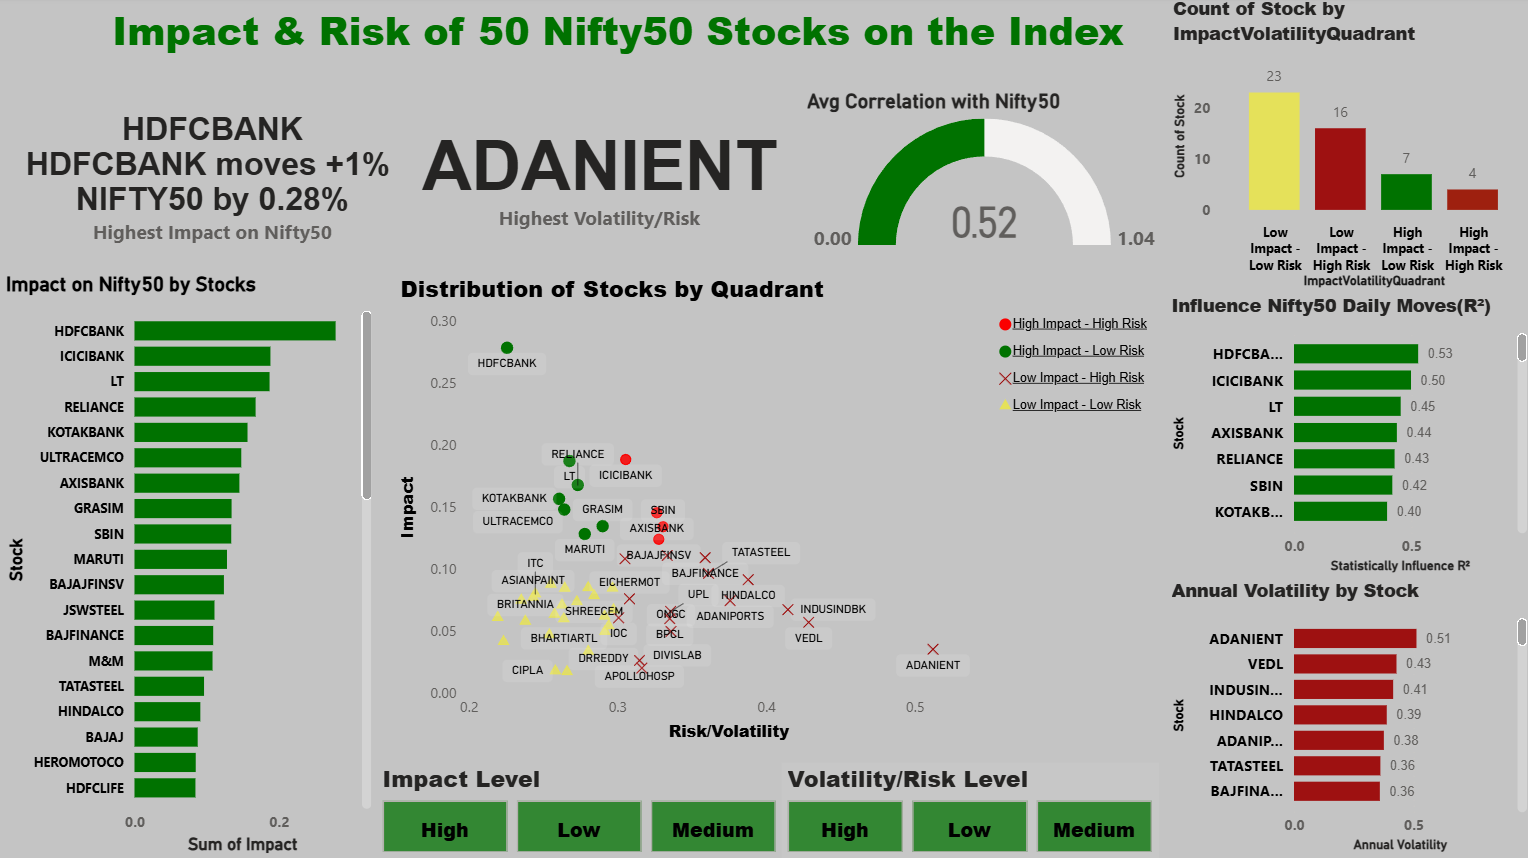

What the dashboard file says about the page in this screenshot:
{"tool":"powerbi","page":{"name":"Page 1","canvas":[1280,720],"ordinal":0},"visuals":[{"type":"card","fields":{"Values":["StockData.TopImpactStock_KPI"]},"box":[0,77.1,354.3,140],"z":0},{"type":"card","fields":{"Values":["Min(StockData.Stock)"]},"box":[330,77.1,341.4,140],"z":1000},{"type":"gauge","fields":{"Y":["Avg(StockData.Correlation)"]},"box":[668.6,77.1,305.7,140],"z":2000},{"type":"clusteredColumnChart","fields":{"Category":["StockData.ImpactVolatilityQuadrant"],"Y":["CountNonNull(StockData.Stock)"]},"box":[975,0,305,248.3],"z":3000},{"type":"clusteredBarChart","title":"Impact on Nifty50 by Stocks","fields":{"Category":["StockData.Stock"],"Y":["Sum(StockData.Impact)"]},"box":[0,230,315,490],"z":4000},{"type":"scatterChart","title":"Distribution of Stocks by Quadrant","fields":{"X":["Sum(StockData.Ann_Volatility)"],"Y":["Sum(StockData.Impact)"],"Category":["StockData.Stock"],"Series":["StockData.ImpactVolatilityQuadrant"]},"box":[330,230,643.3,396.7],"z":5000},{"type":"clusteredBarChart","title":"Influence Nifty50 Daily Moves(R²)","fields":{"Category":["StockData.Stock"],"Y":["Sum(StockData.r_squared)"]},"box":[973.3,248.3,306.7,238.3],"z":6000},{"type":"clusteredBarChart","fields":{"Category":["StockData.Stock"],"Y":["Sum(StockData.Ann_Volatility)"]},"box":[973.3,486.7,306.7,233.3],"z":7000},{"type":"advancedSlicerVisual","fields":{"Values":["StockData.Impact_Level"]},"box":[315,640,338.3,80],"z":8000},{"type":"advancedSlicerVisual","fields":{"Values":["StockData.Volatility_Level"]},"box":[653.3,640,315,80],"z":9000},{"type":"textbox","box":[63.3,0,905,61.7],"z":10000}]}

Visuals, with their boxes in screenshot pixels (x1, y1, x2, y2), scaled from the page's 1280x720 canvas onto the 1528x858 screenshot:
card - StockData.TopImpactStock_KPI: box=[0, 92, 423, 259]
card - Min(StockData.Stock): box=[394, 92, 801, 259]
gauge - Avg(StockData.Correlation): box=[798, 92, 1163, 259]
clusteredColumnChart - StockData.ImpactVolatilityQuadrant x CountNonNull(StockData.Stock): box=[1164, 0, 1527, 296]
"Impact on Nifty50 by Stocks" clusteredBarChart: box=[0, 274, 376, 857]
"Distribution of Stocks by Quadrant" scatterChart: box=[394, 274, 1162, 747]
"Influence Nifty50 Daily Moves(R²)" clusteredBarChart: box=[1162, 296, 1527, 580]
clusteredBarChart - StockData.Stock x Sum(StockData.Ann_Volatility): box=[1162, 580, 1527, 857]
advancedSlicerVisual - StockData.Impact_Level: box=[376, 763, 780, 857]
advancedSlicerVisual - StockData.Volatility_Level: box=[780, 763, 1156, 857]
textbox: box=[76, 0, 1156, 74]
